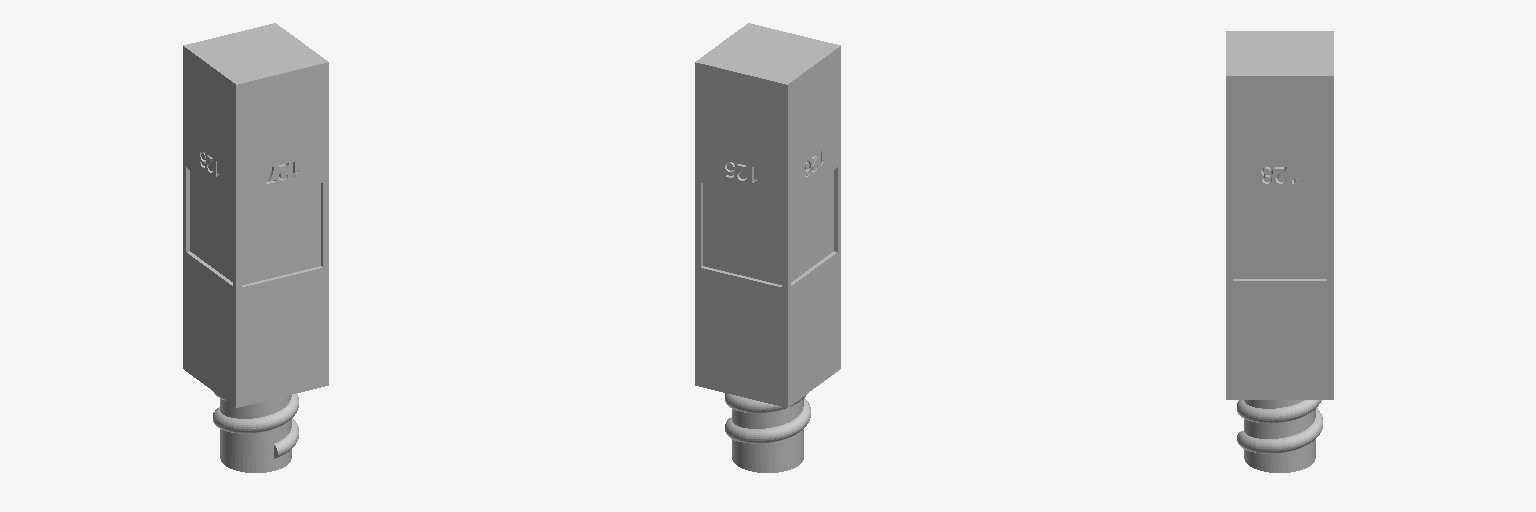
Rendered from desk_leg4.obj.
3 renders of one model, left to right at view 1: azimuth 30°, elevation 25°; view 2: azimuth 150°, elevation 25°; view 3: azimuth 270°, elevation 25°, orthographic.
Parts seen in each view (by area): view 1: desk_leg4, desk_leg4.003, desk_leg4.002; view 2: desk_leg4, desk_leg4.001, desk_leg4.002; view 3: desk_leg4, desk_leg4.004.
Part boxes in pixels (x1,y1,x2,y2): desk_leg4: (183, 23, 328, 472); desk_leg4.003: (242, 183, 322, 286); desk_leg4.002: (186, 167, 232, 285); desk_leg4: (695, 23, 840, 472); desk_leg4.001: (701, 183, 781, 286); desk_leg4.002: (791, 167, 837, 285); desk_leg4: (1226, 31, 1333, 472); desk_leg4.004: (1233, 196, 1326, 280).
Bounding box in the file's own units: 0.03 × 0.125 × 0.03.